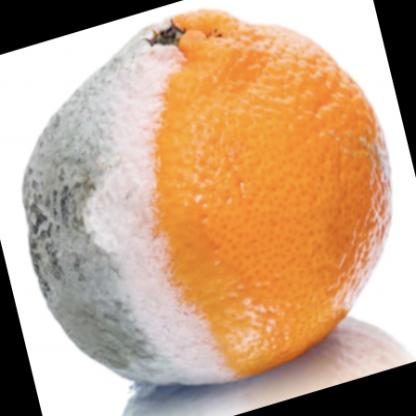rotten_orange: (24, 6, 397, 388)
